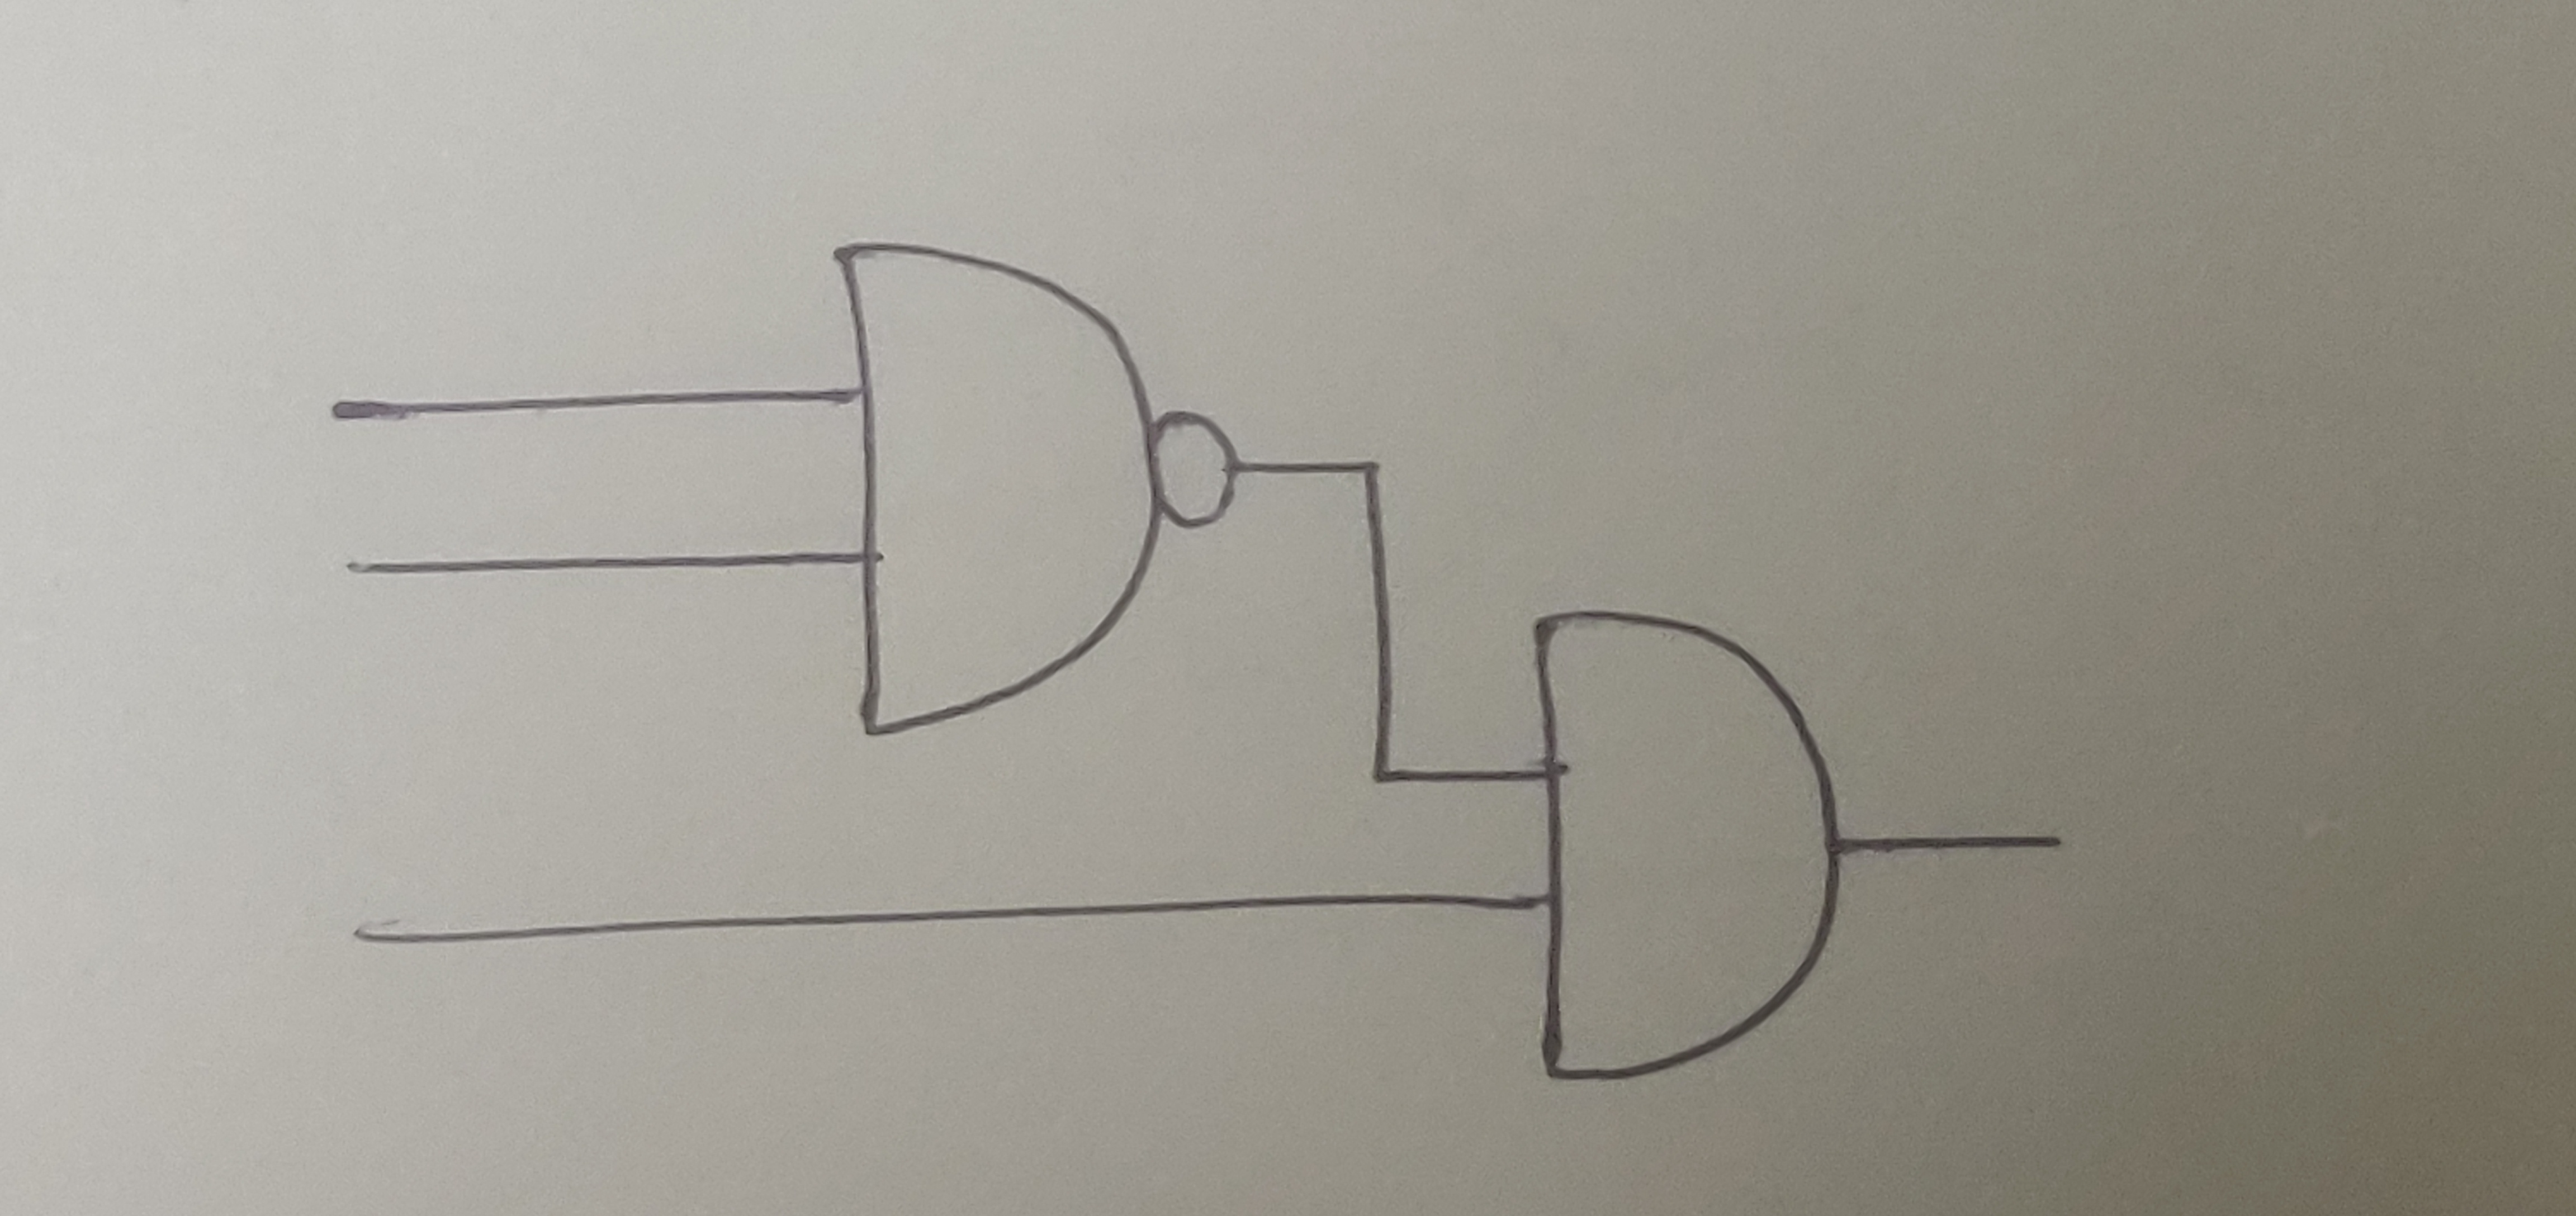and: (828, 237, 1163, 736), (1525, 608, 1847, 1081)
not: (1153, 404, 1245, 536)
